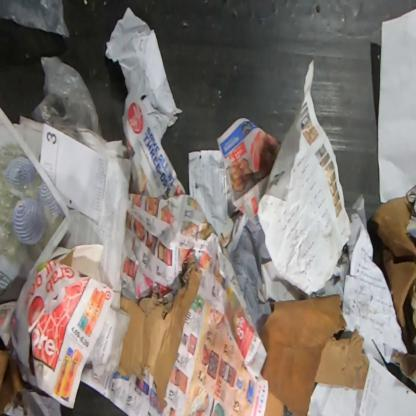cardboard: (116, 253, 202, 409), (260, 294, 370, 415), (371, 196, 415, 387), (0, 349, 26, 416)
soft_plastic: (28, 56, 103, 142), (0, 0, 71, 40)
